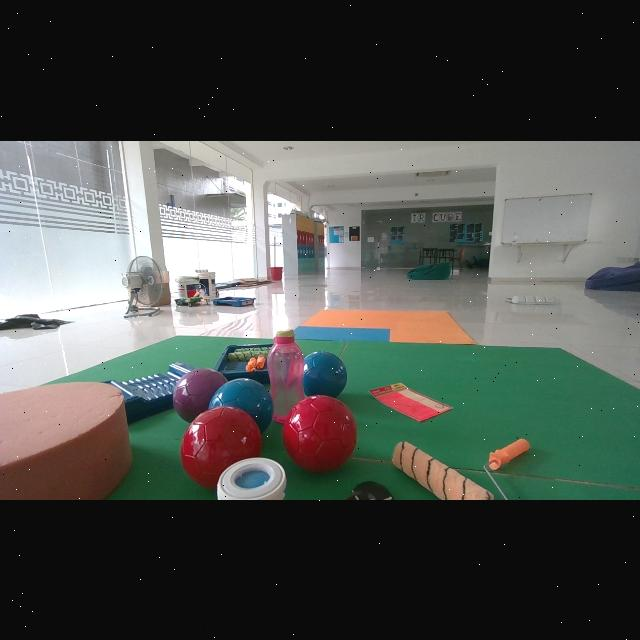B: (209, 378, 273, 433), (304, 351, 347, 397)
P: (172, 367, 227, 422)
R: (180, 407, 262, 489), (282, 395, 357, 472)
